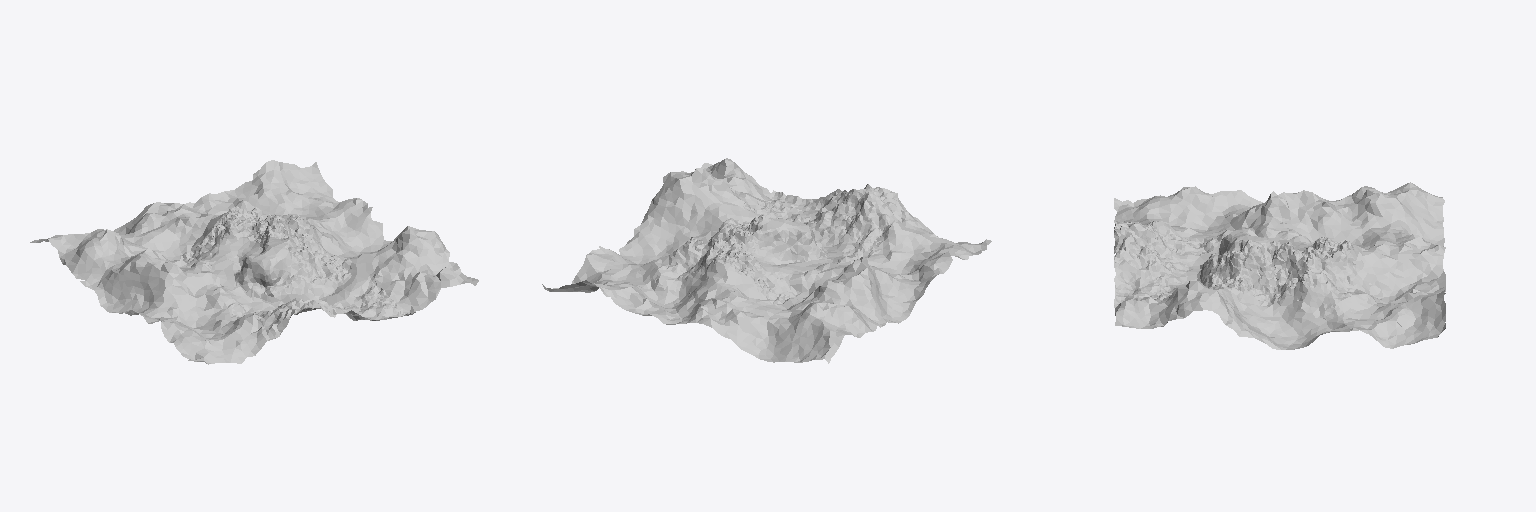
Rendered from testterrain11.obj.
3 renders of one model, left to right at view 1: azimuth 30°, elevation 25°; view 2: azimuth 150°, elevation 25°; view 3: azimuth 270°, elevation 25°, orthographic.
Parts seen in each view (by area): view 1: Mountains_MountainsMesh; view 2: Mountains_MountainsMesh; view 3: Mountains_MountainsMesh.
Boxes of the visible parts, x1,y1,x2,y2 form: Mountains_MountainsMesh: [30, 160, 478, 364]; Mountains_MountainsMesh: [542, 158, 991, 363]; Mountains_MountainsMesh: [1114, 182, 1445, 349].
Size of the model in its own units: 37.63 by 7.44 by 37.64.